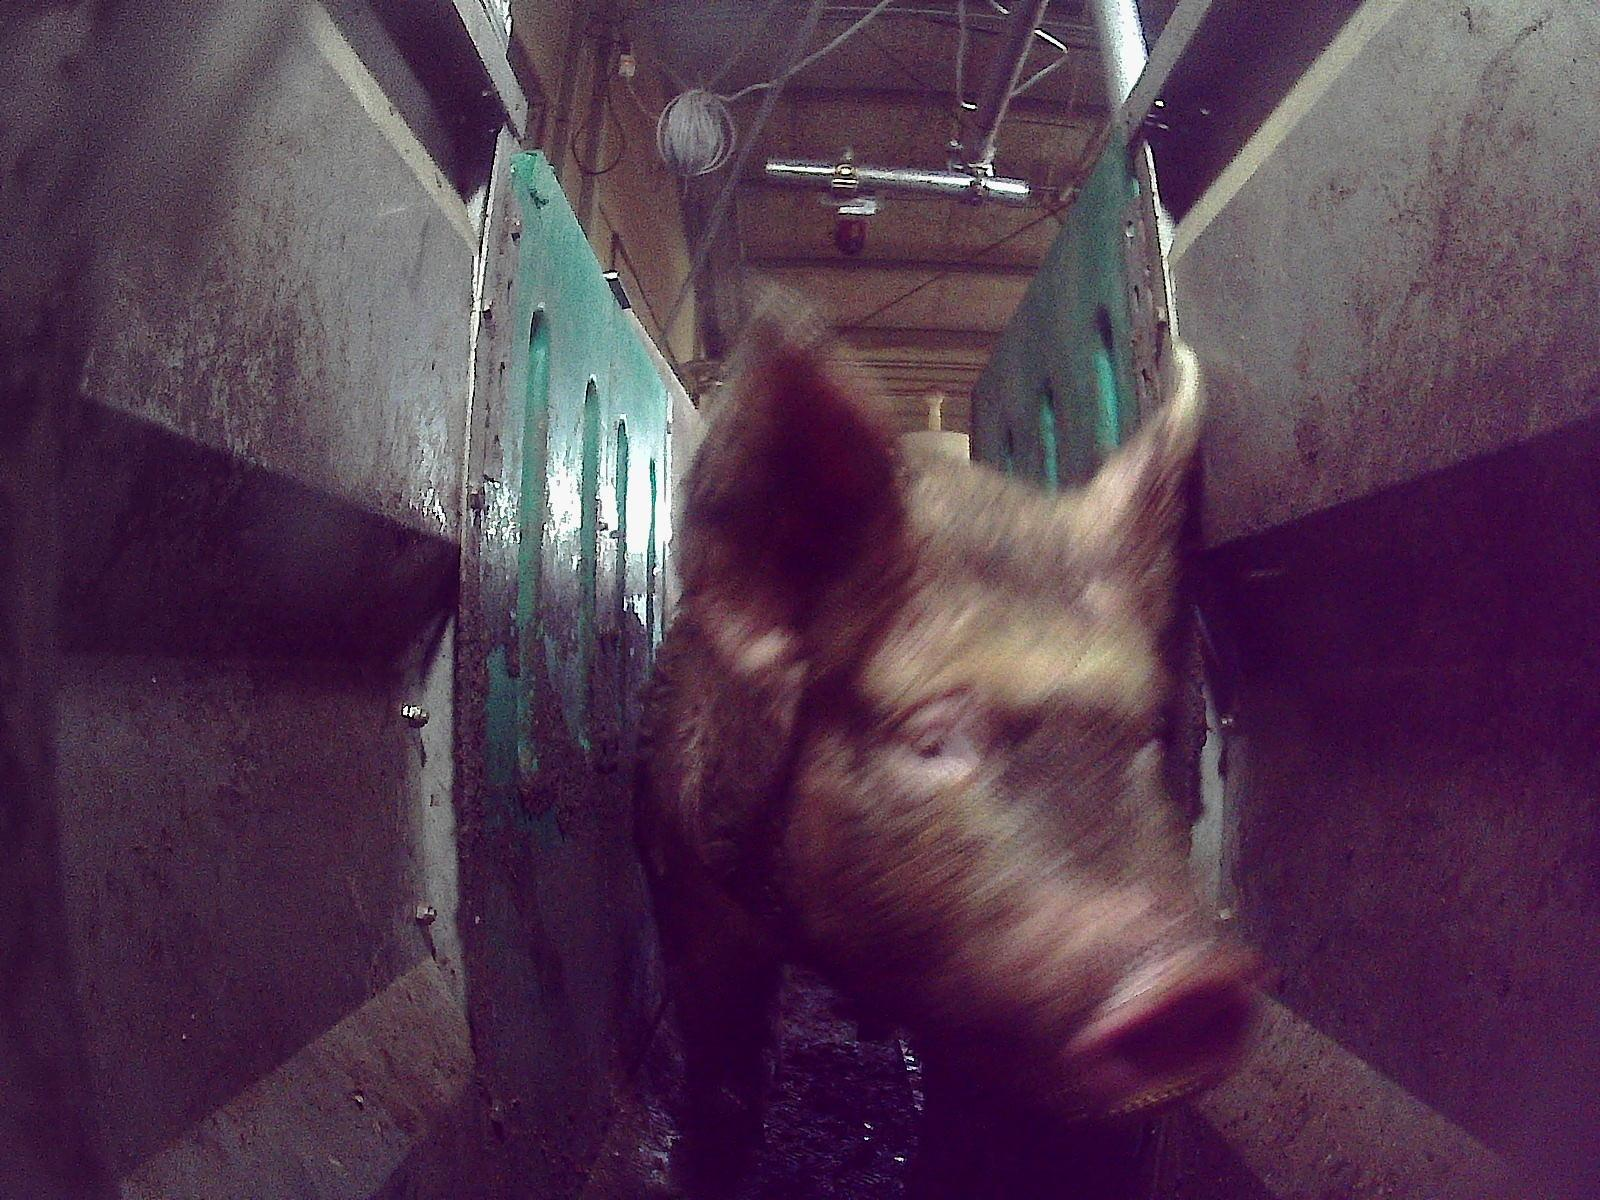Face: (769, 474, 1268, 1119)
